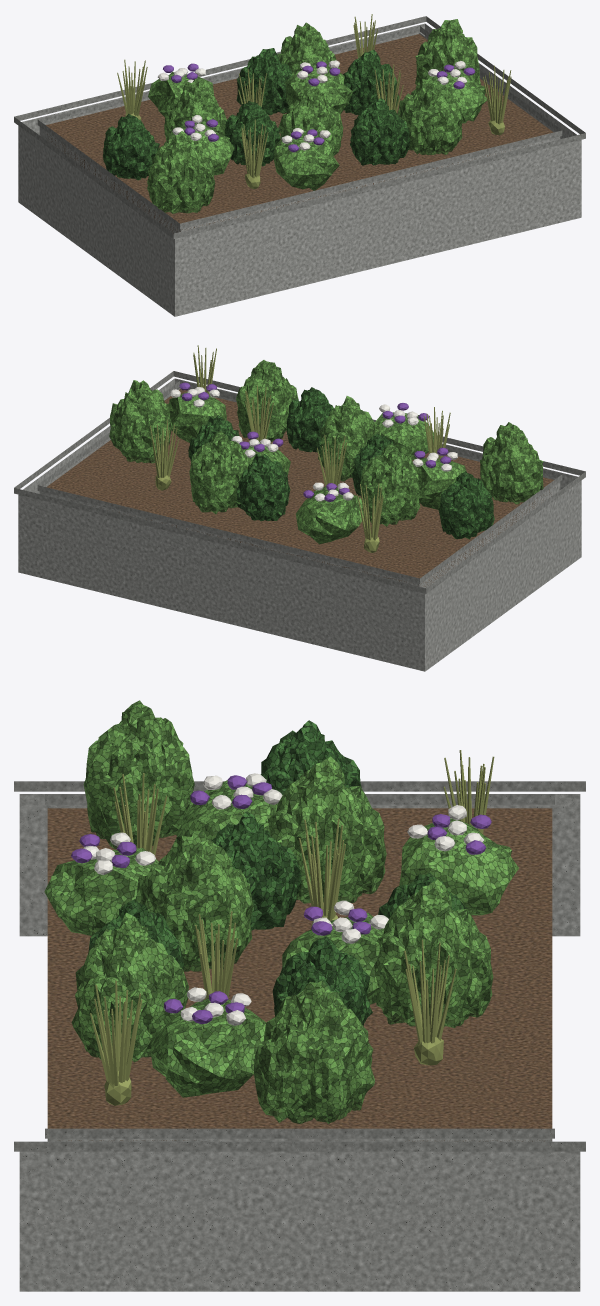
The picture shows the model from 3 angles, top to bottom: view 1: azimuth 30°, elevation 25°; view 2: azimuth 150°, elevation 25°; view 3: azimuth 270°, elevation 25°; orthographic projection. The views are drawn at different scales.
Visible parts, largest first — view 1: landscape.raised_planter (×3), zardinjera-0-0.5- (×6), zardinjera-3-0.5- (×5), zardinjera-2-0.5- (×5), zardinjera-1-0.5- (×6); view 2: landscape.raised_planter (×3), zardinjera-0-0.5- (×6), zardinjera-3-0.5- (×5), zardinjera-2-0.5- (×5), zardinjera-1-0.5- (×6); view 3: landscape.raised_planter (×3), zardinjera-0-0.5- (×6), zardinjera-2-0.5- (×15), zardinjera-3-0.5- (×5), zardinjera-1-0.5- (×6).
Part boxes in pixels (x1=…): landscape.raised_planter (×3): x1=14, y1=16, x2=585, y2=316; zardinjera-0-0.5- (×6): x1=147, y1=19, x2=480, y2=213; zardinjera-3-0.5- (×5): x1=103, y1=48, x2=410, y2=180; zardinjera-2-0.5- (×5): x1=148, y1=65, x2=486, y2=190; zardinjera-1-0.5- (×6): x1=117, y1=14, x2=511, y2=188; landscape.raised_planter (×3): x1=14, y1=371, x2=585, y2=671; zardinjera-0-0.5- (×6): x1=109, y1=360, x2=543, y2=526; zardinjera-3-0.5- (×5): x1=188, y1=387, x2=494, y2=539; zardinjera-2-0.5- (×5): x1=168, y1=392, x2=466, y2=544; zardinjera-1-0.5- (×6): x1=150, y1=345, x2=450, y2=552; landscape.raised_planter (×3): x1=14, y1=781, x2=585, y2=1291; zardinjera-0-0.5- (×6): x1=71, y1=700, x2=493, y2=1123; zardinjera-2-0.5- (×15): x1=44, y1=773, x2=518, y2=1097; zardinjera-3-0.5- (×5): x1=88, y1=720, x2=469, y2=1026; zardinjera-1-0.5- (×6): x1=90, y1=750, x2=494, y2=1105.
Bounding box in the file's own units: 3.04 × 2.04 × 1.05.
Materials: 8 (5 with a texture image).
